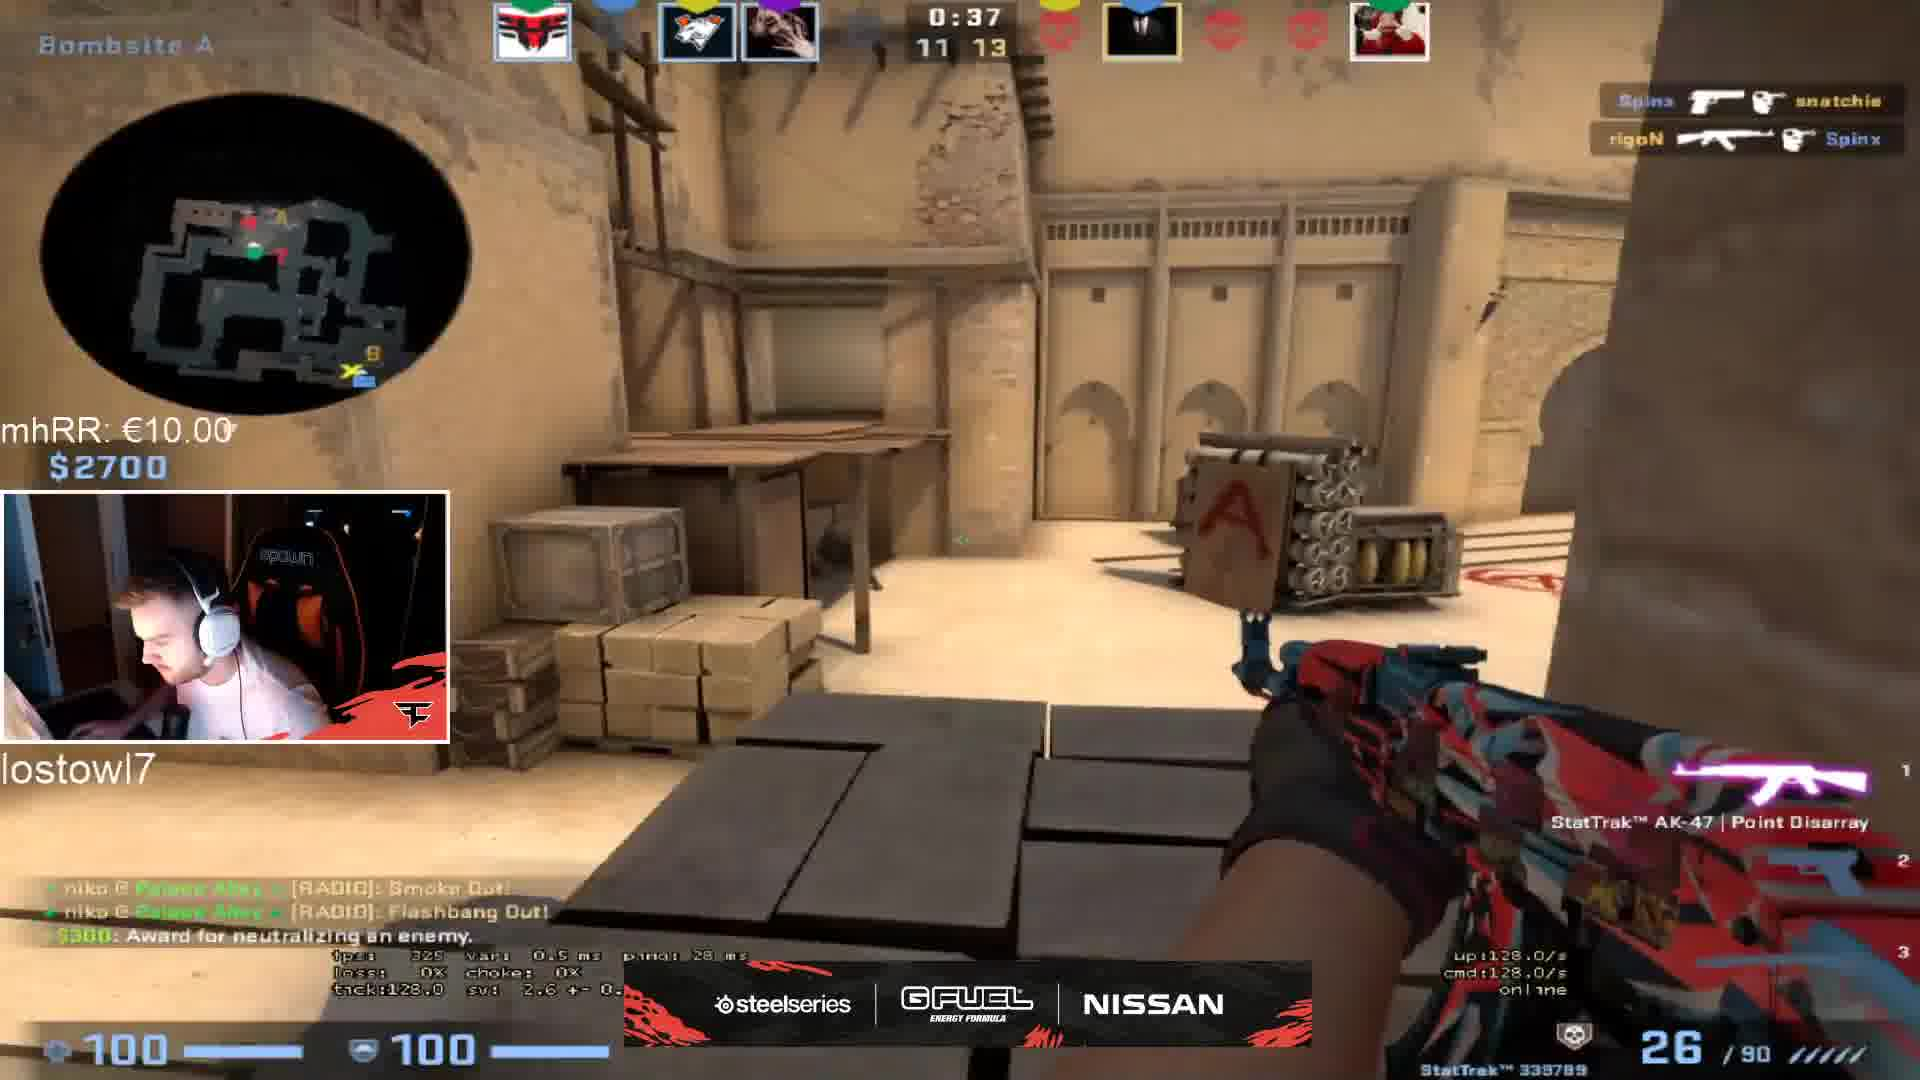enemy: (810, 521, 858, 587)
